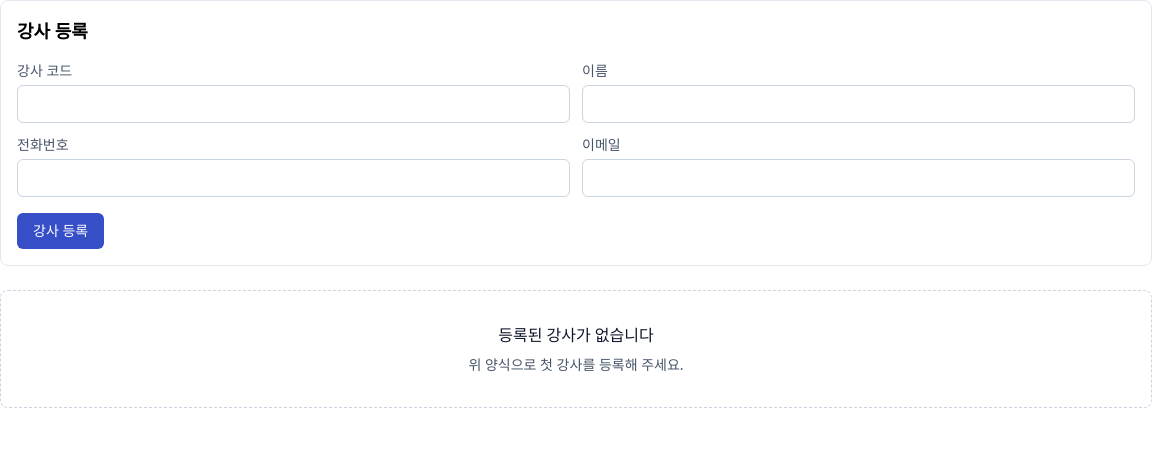
TeachersPanel › validates create form before submission
The width and height of the screenshot is (1152, 457).
Click the button with test id "teacher-create-submit": point(61, 231) [17,213,104,249]
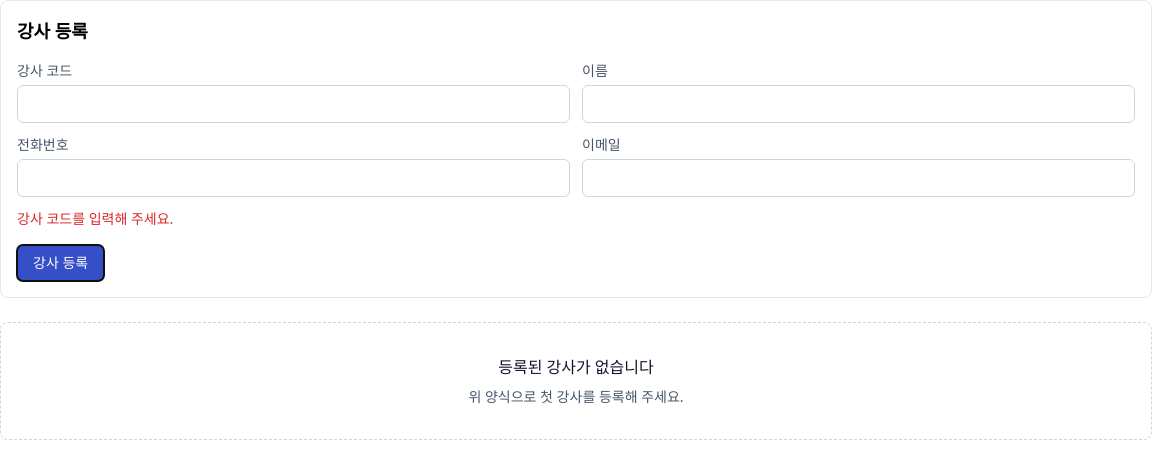
Now the message with test id "teacher-create-error" shows "강사 코드", box [17,209,173,228]
